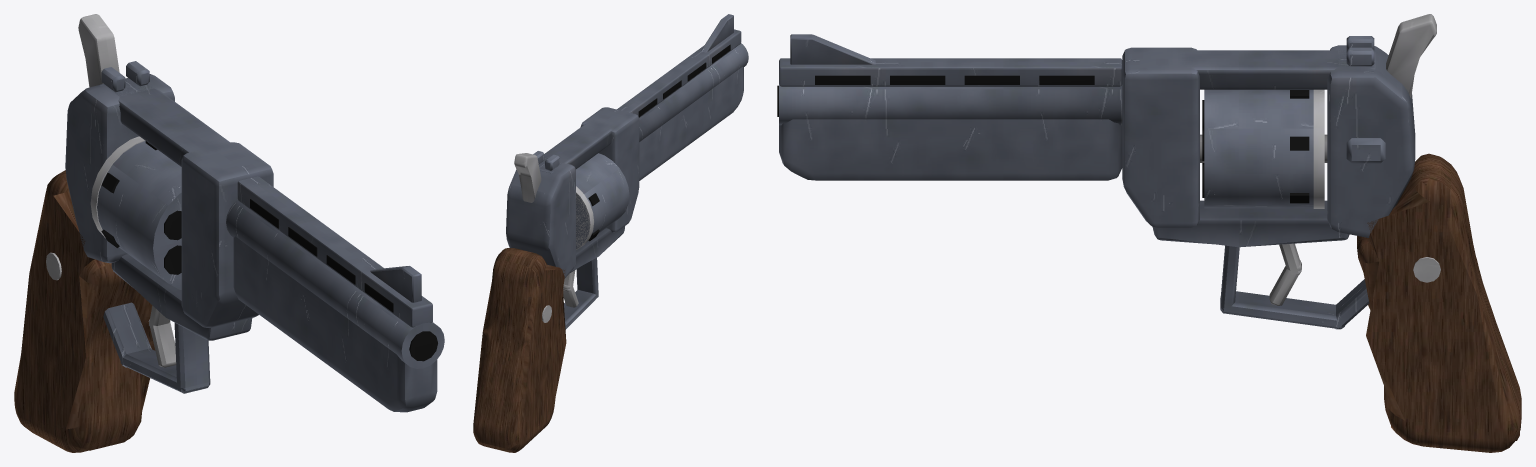
Rendered from sheriff.glb.
3 views of the same model, side by side, from view 1: azimuth 30°, elevation 25°; view 2: azimuth 150°, elevation 25°; view 3: azimuth 270°, elevation 25° (orthographic). The views are drawn at different scales.
Parts seen in each view (by area): view 1: body, cylinder; view 2: body, cylinder; view 3: body, cylinder.
Part boxes in pixels (x1,y1,x2,y2): body: (14,14,444,452); cylinder: (90,136,181,289); body: (473,14,748,452); cylinder: (576,153,629,249); body: (777,14,1521,452); cylinder: (1202,89,1324,208).
Size of the model in its own units: 0.0436 by 0.1697 by 0.2689.
4 materials, 3 textured.
